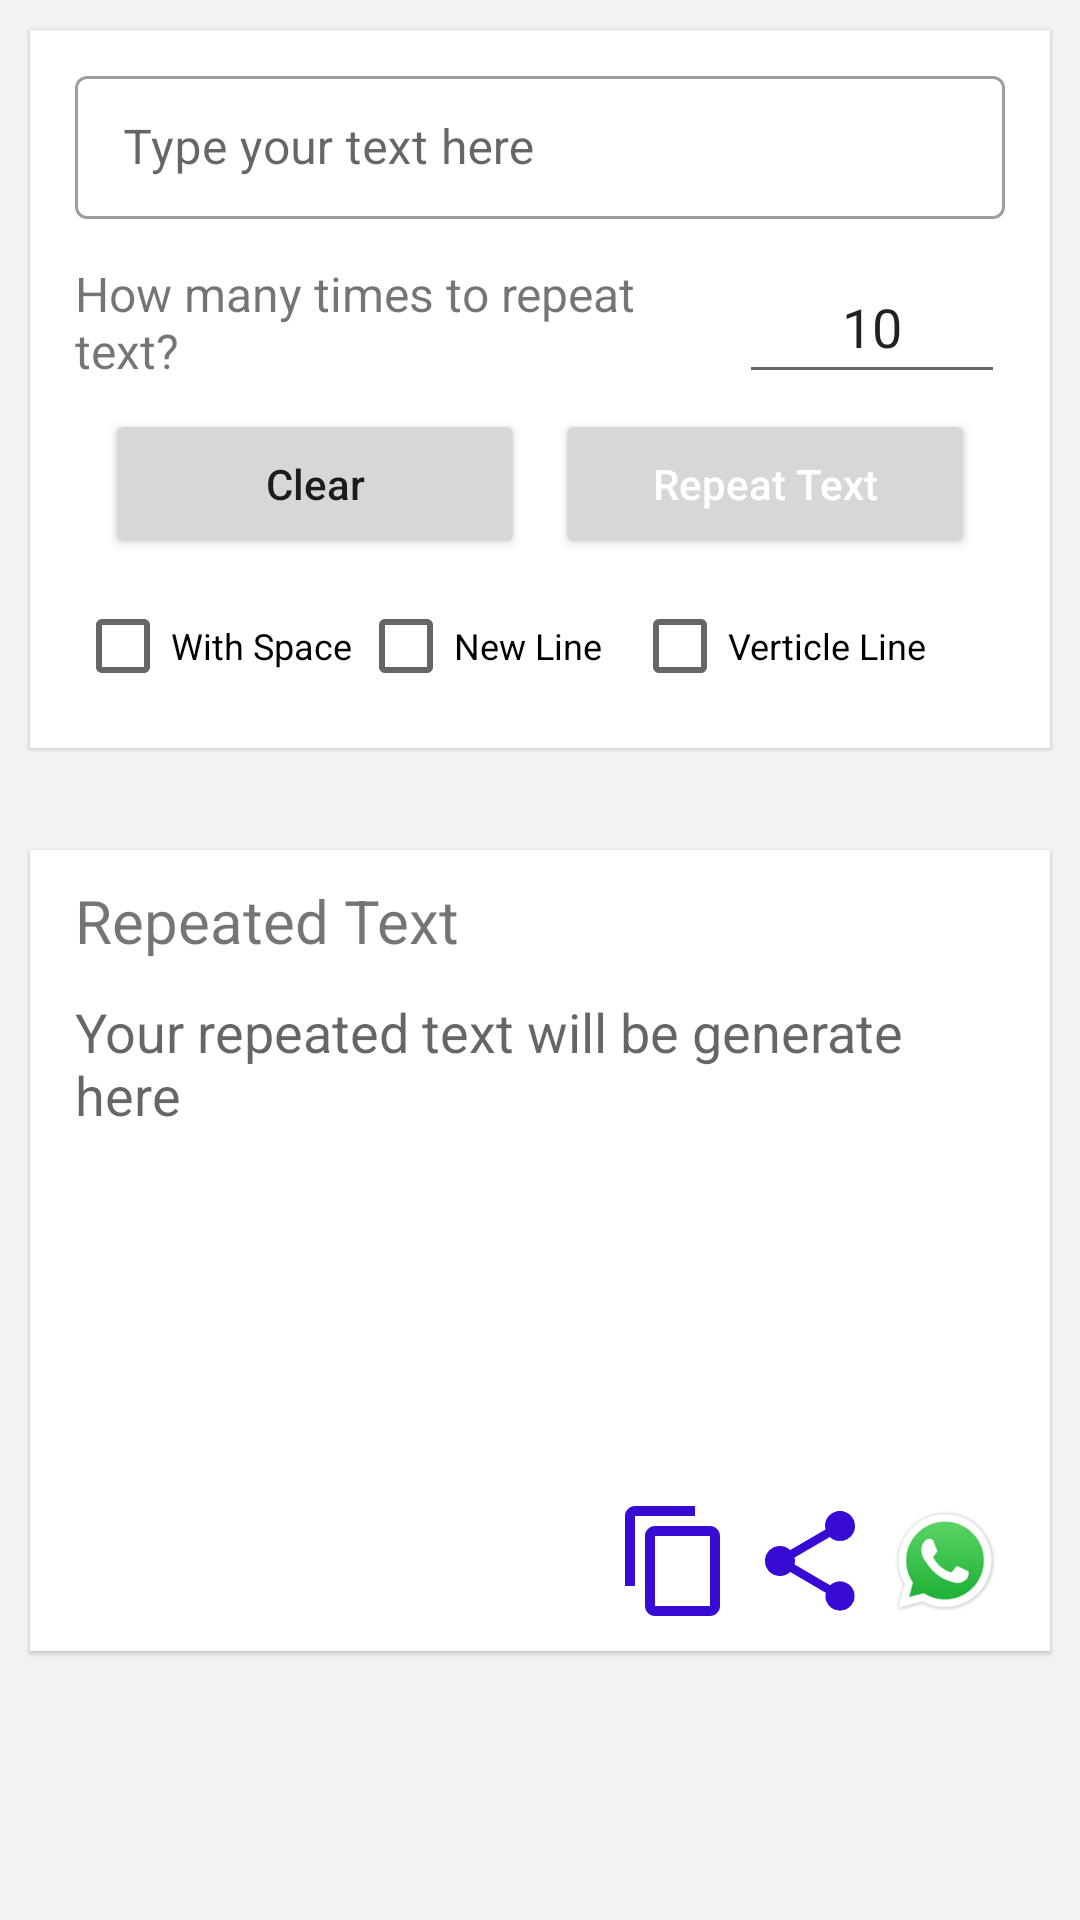

Where icons sit on this 1080px x 1920px app screen, as (x1=x1, y1=y1, x2=x2, y2=y2):
share: (x1=765, y1=1511, x2=855, y2=1611)
